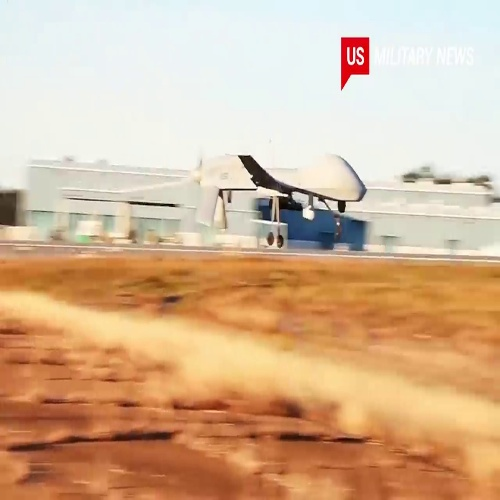uav252: (63, 146, 370, 252)
